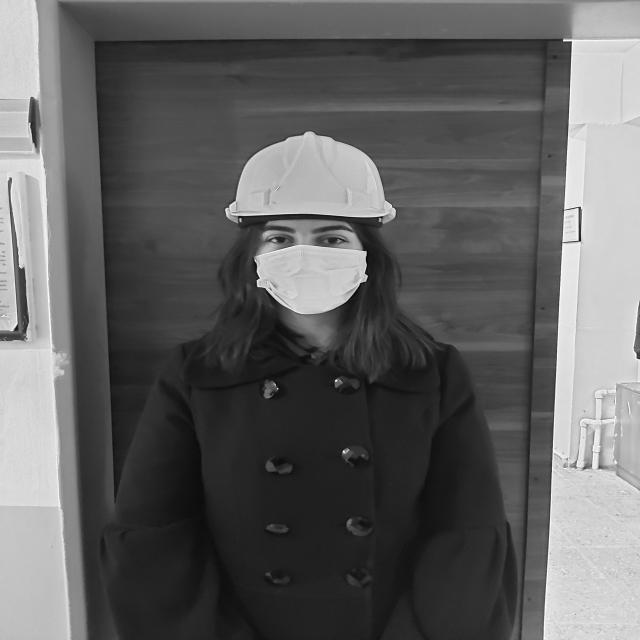safety_helmet: (225, 132, 397, 227)
